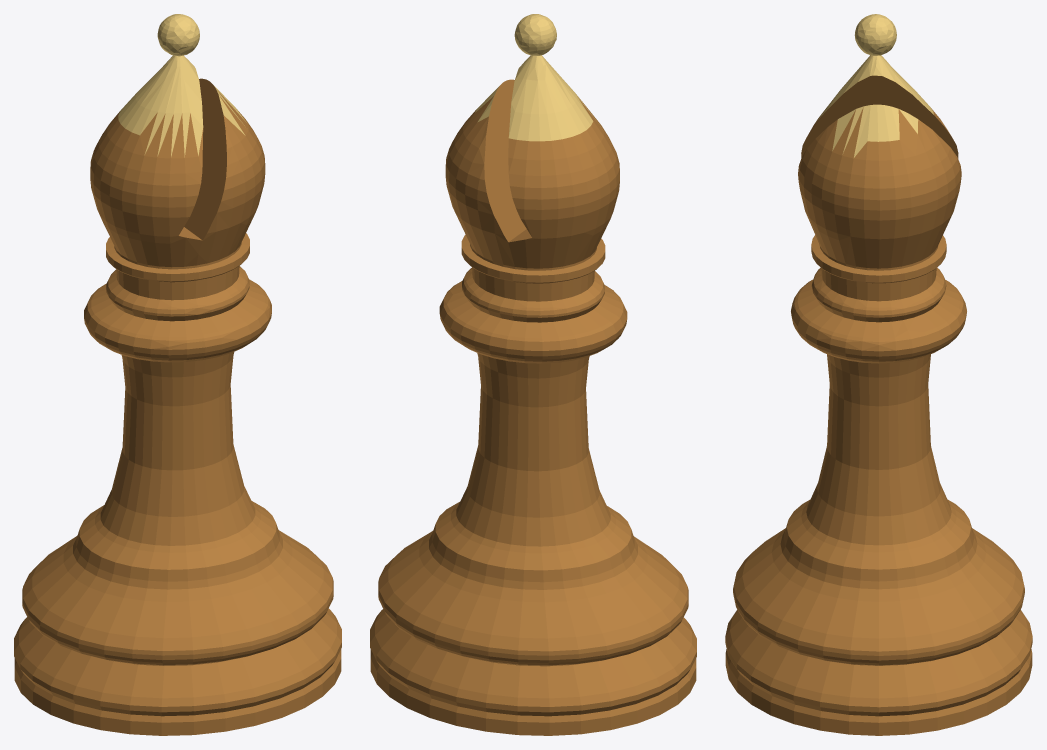
File: gercek3_b_w.glb
The picture shows the model from 3 angles, left to right: view 1: azimuth 30°, elevation 25°; view 2: azimuth 150°, elevation 25°; view 3: azimuth 270°, elevation 25°; orthographic projection.
Parts seen in each view (by area): view 1: b_w; view 2: b_w; view 3: b_w.
Boxes of the visible parts, left/top/right/bottom form: b_w: left=14, top=14, right=341, bottom=735; b_w: left=370, top=14, right=696, bottom=735; b_w: left=725, top=14, right=1032, bottom=735.
Size of the model in its own units: 0.418 by 0.9 by 0.3862.
